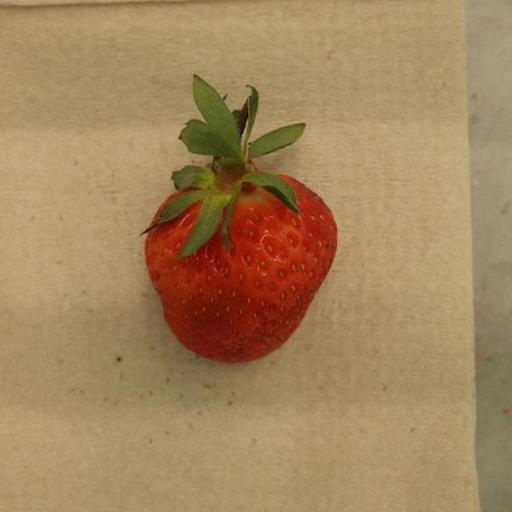Strawberry: (144, 75, 338, 365)
